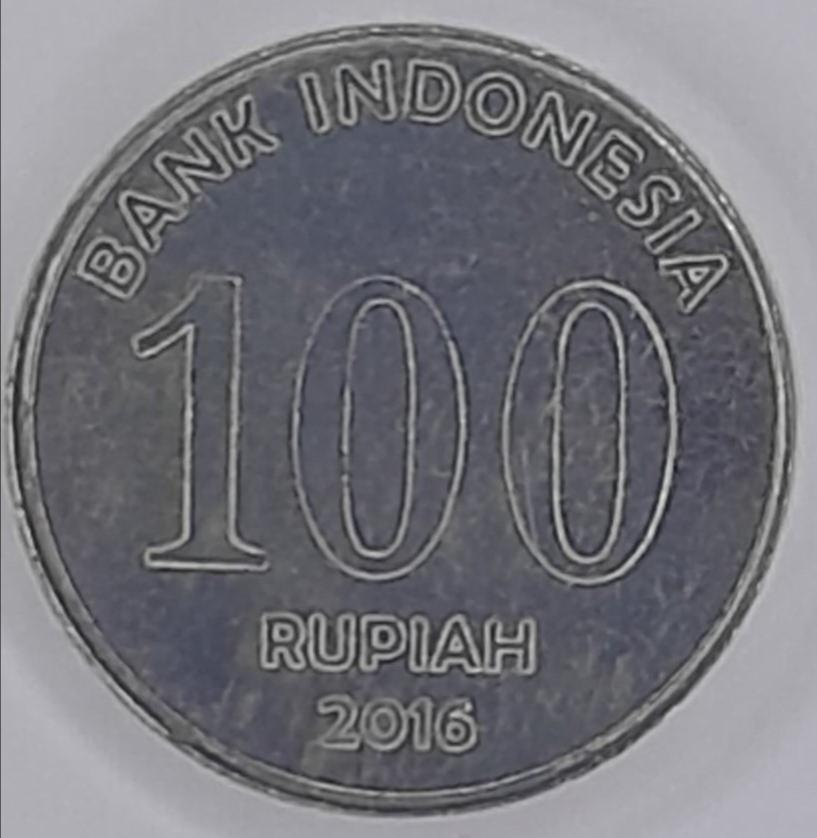coin_100_e2016: (0, 17, 801, 818)
